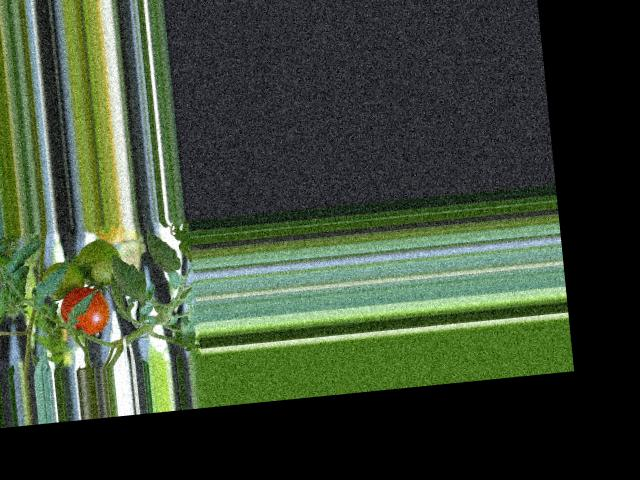tomato: (58, 285, 112, 337)
